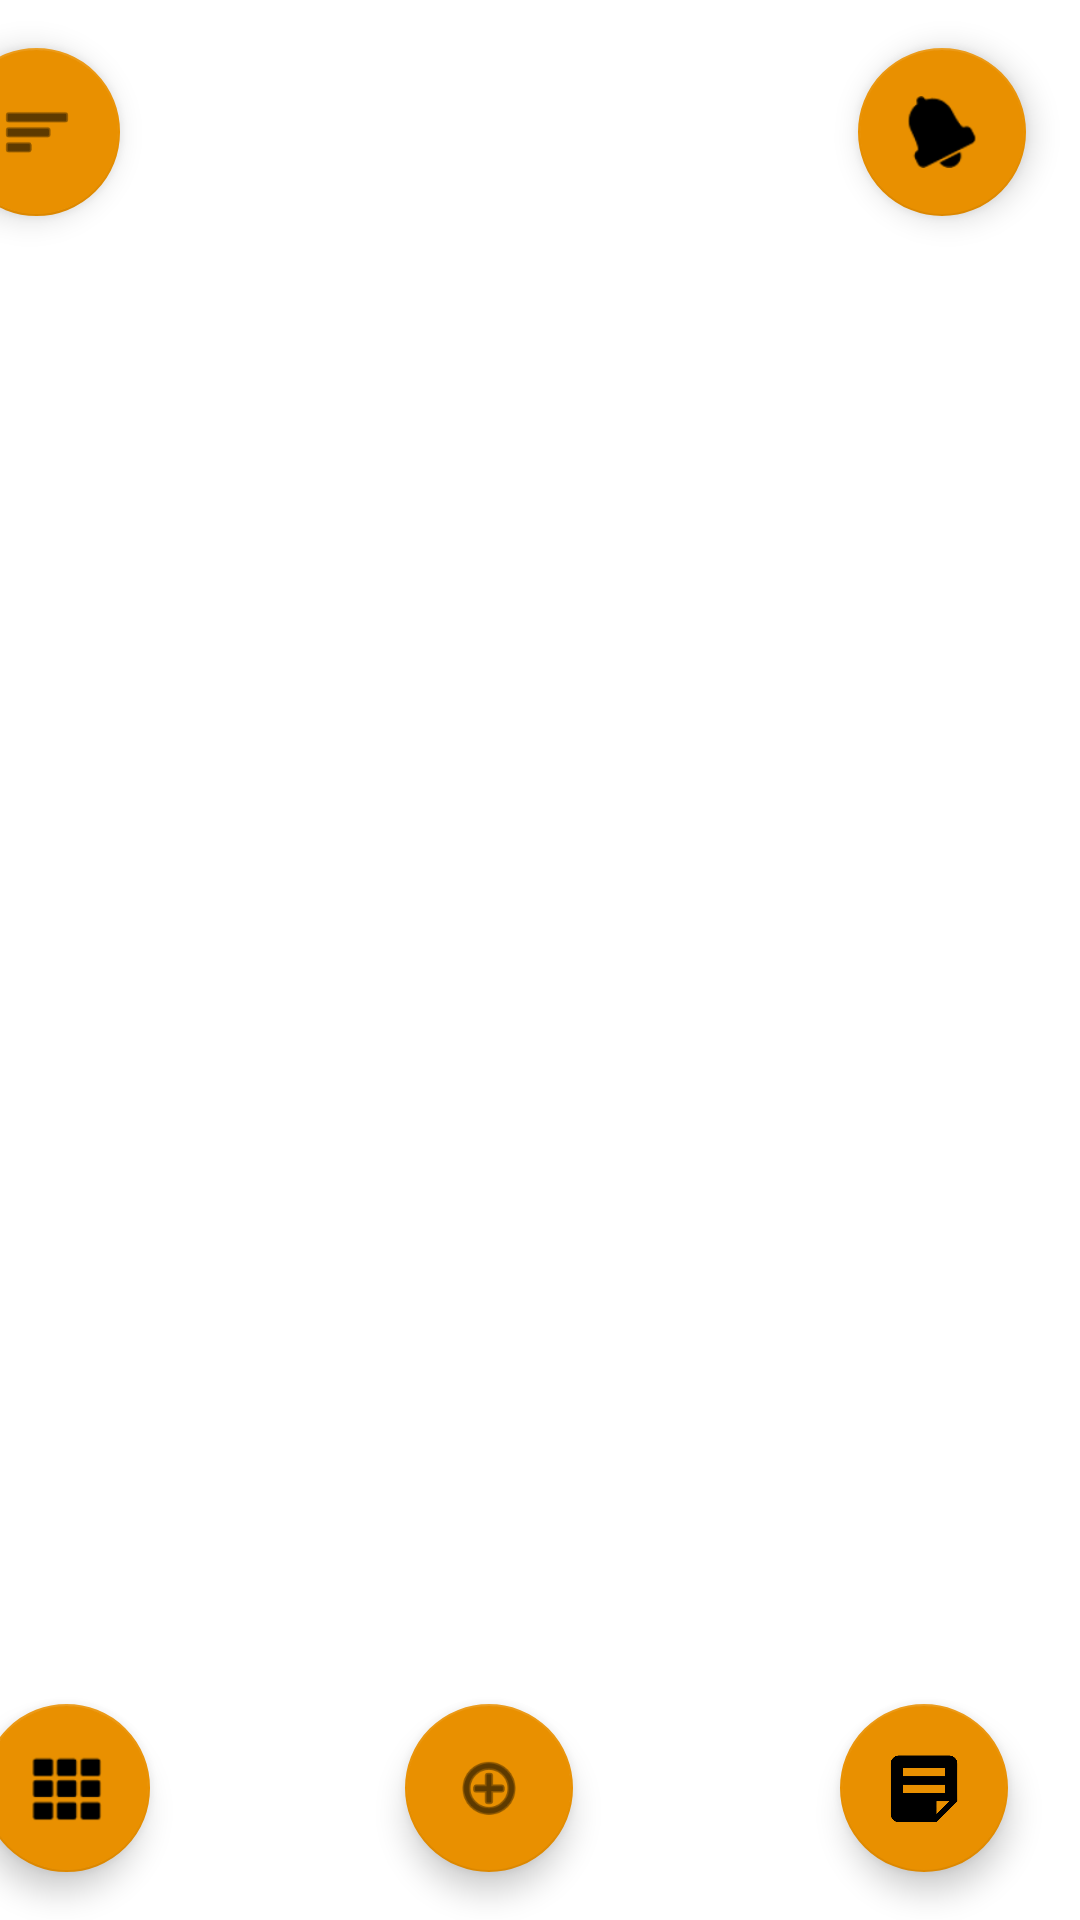

Point at icon controls on the screen. Image size 1080px x 1920px, points as (x=x, y=y).
add: (x=489, y=1788)
notesicon: (x=924, y=1788)
popup reminder: (x=942, y=132)
